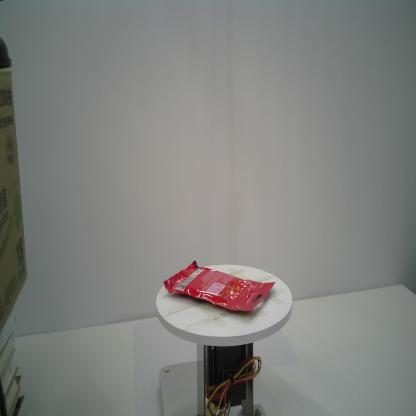Candy: (162, 259, 278, 314)
